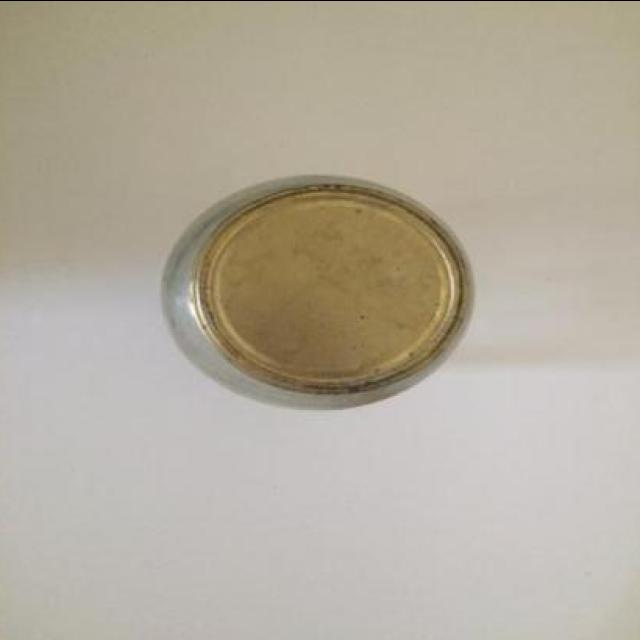kaca: (156, 174, 473, 408)
